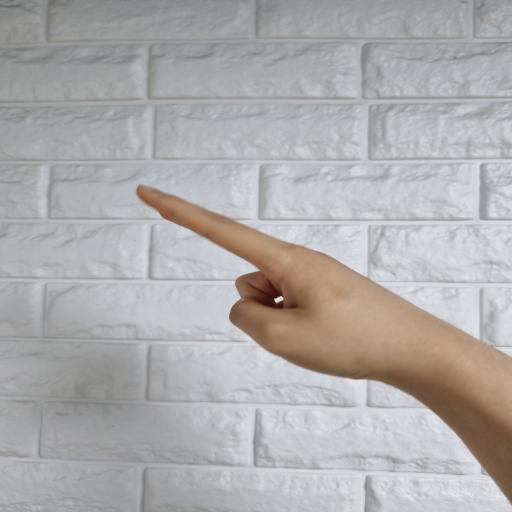Scissors: (135, 184, 512, 505)
